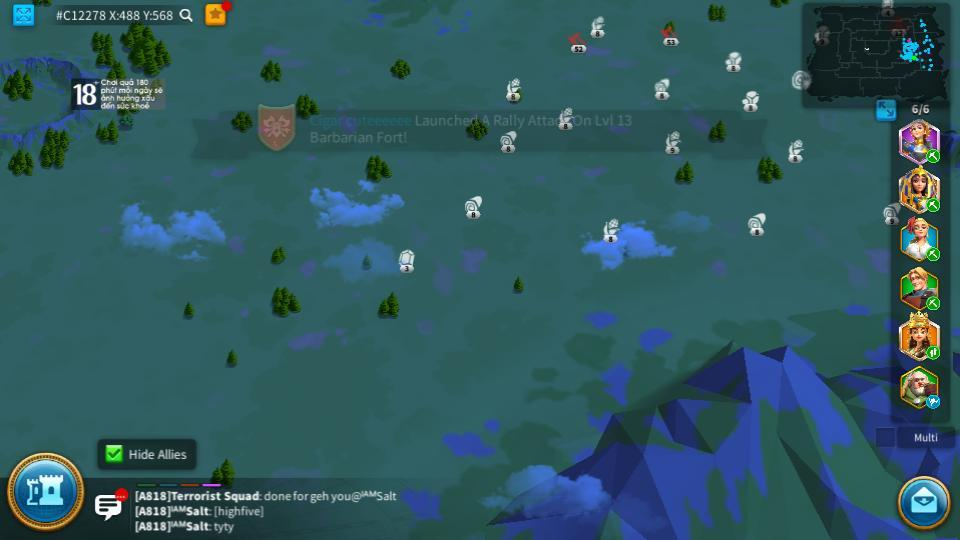gem-z-out: (397, 249, 416, 271)
march_idle: (925, 394, 942, 408)
march_marching: (925, 197, 941, 212), (925, 150, 942, 162), (926, 345, 940, 359), (925, 248, 941, 260), (925, 297, 942, 308)
